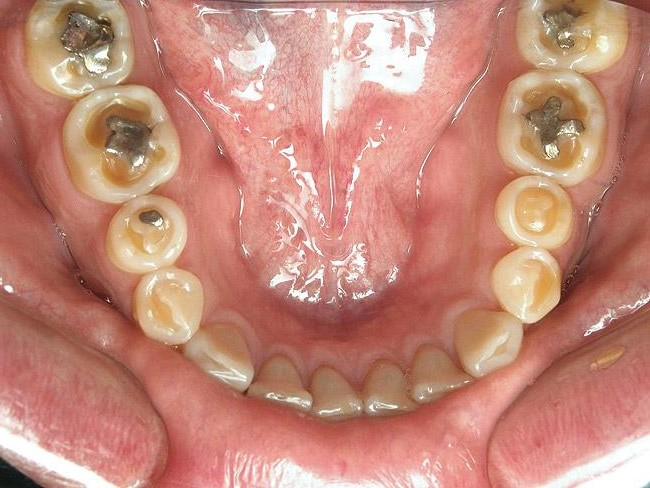LL1BC_decay: (483, 242, 561, 325)
LL1M_decay: (494, 71, 608, 186)
LL2BC_decay: (493, 173, 573, 251)
LLCI_healthy: (358, 358, 417, 418)
LLC_decay: (450, 311, 523, 380)
LLLI_healthy: (404, 349, 479, 408)
LR1BC_decay: (135, 270, 209, 344)
LR1M_decay: (58, 84, 179, 201)
LR2BC_decay: (107, 196, 193, 277)
LR2M_decay: (19, 2, 134, 97)
LRCI_healthy: (313, 362, 361, 425)
LRC_decay: (185, 327, 259, 390)
LRLI_healthy: (248, 347, 312, 417)
